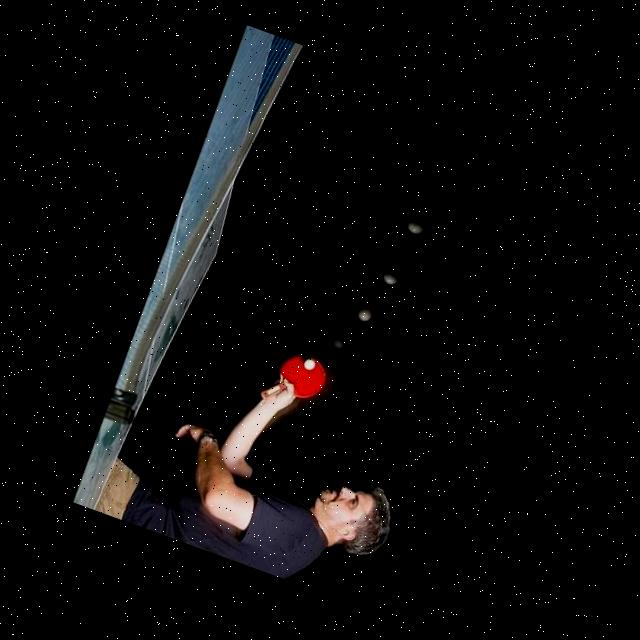ping-pong-ball: (405, 214, 427, 236), (382, 268, 401, 286), (356, 305, 374, 323), (302, 356, 316, 369)
